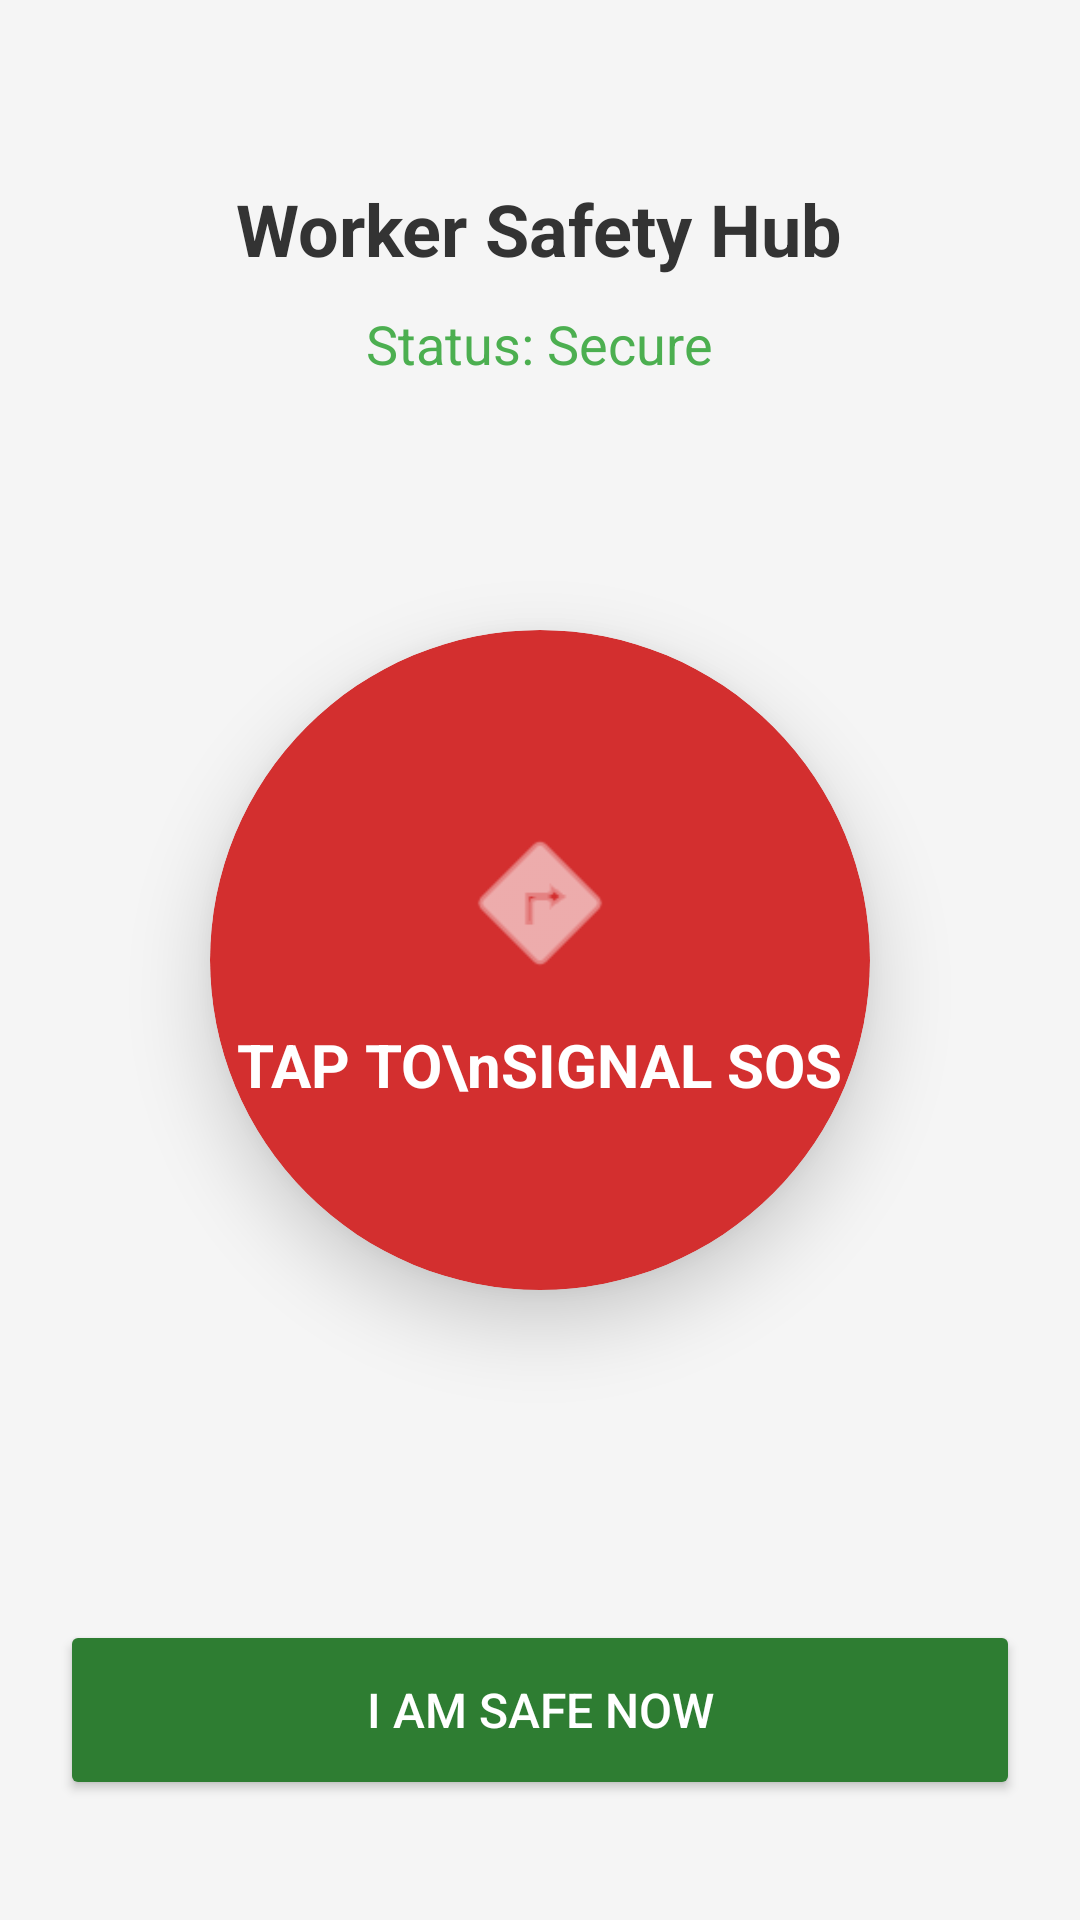

Icons on this 1080×1920 Android screen, each with its box as (x1, y1, x2, y2):
directions: (478, 842, 602, 965)
